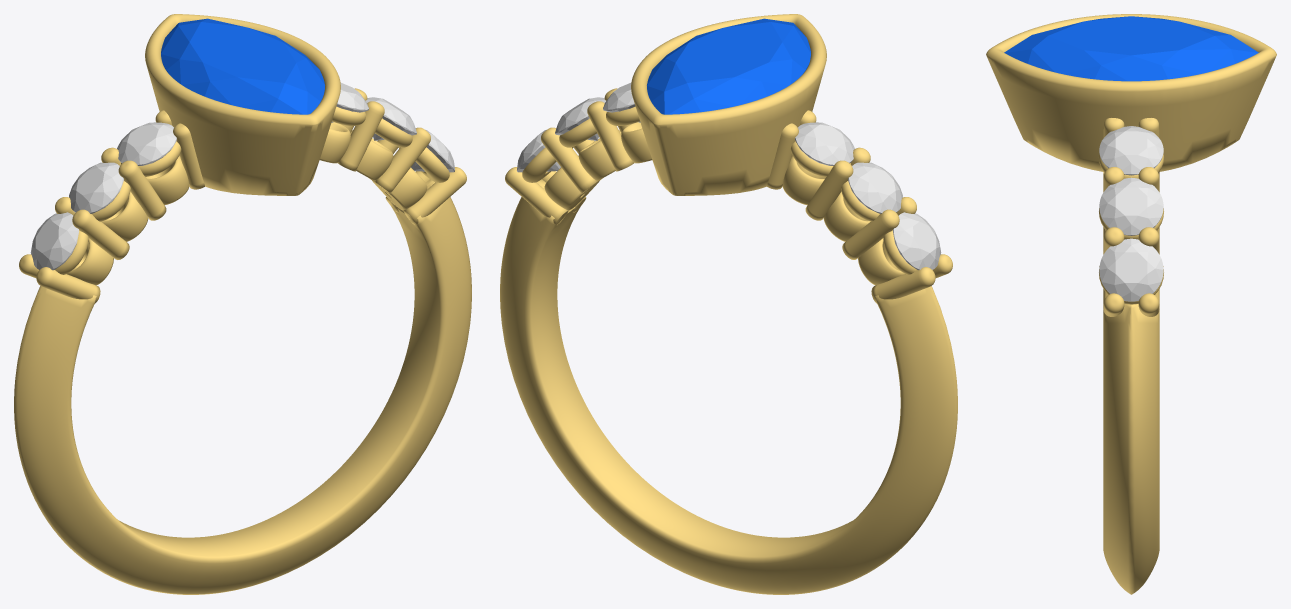
Rendered from bluesapphire-marquise-yellowgold-bezelset-knifeedge-7stone.glb.
The picture shows the model from 3 angles, left to right: view 1: azimuth 30°, elevation 25°; view 2: azimuth 150°, elevation 25°; view 3: azimuth 270°, elevation 25°; orthographic projection.
Visible parts, largest first — view 1: metal.002, stone.002, side.002, side.013, side.014, side.016, side.017, side.015; view 2: metal.002, stone.002, side.002, side.013, side.014, side.016, side.017; view 3: metal.002, stone.002, side.015, side.016, side.017.
Boxes of the visible parts, x1,y1,x2,y2 form: metal.002: (14, 14, 471, 594); stone.002: (161, 18, 324, 114); side.002: (30, 212, 78, 270); side.013: (69, 162, 123, 213); side.014: (117, 122, 176, 165); side.016: (366, 97, 416, 140); side.017: (331, 83, 368, 122); side.015: (411, 129, 454, 172); metal.002: (500, 14, 957, 594); stone.002: (647, 18, 810, 114); side.002: (893, 212, 941, 270); side.013: (848, 162, 902, 213); side.014: (795, 122, 854, 165); side.016: (555, 97, 605, 140); side.017: (603, 83, 640, 122); metal.002: (986, 14, 1276, 594); stone.002: (1004, 16, 1258, 81); side.015: (1099, 238, 1163, 301); side.016: (1099, 177, 1163, 235); side.017: (1099, 126, 1163, 175).
Bounding box in the file's own units: 20.5 × 22.93 × 11.31.
